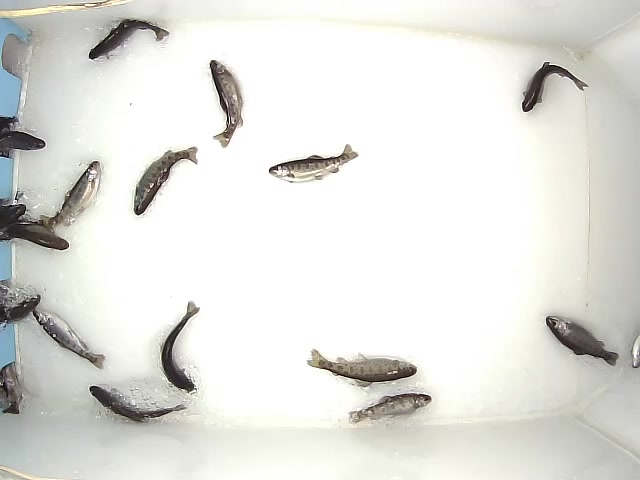fish: (33, 307, 106, 370), (134, 146, 198, 215), (39, 161, 101, 231), (306, 349, 417, 387), (161, 300, 200, 396), (89, 386, 188, 423), (546, 316, 619, 366), (269, 144, 359, 183), (89, 18, 170, 60), (522, 62, 589, 112), (209, 60, 243, 148), (348, 393, 432, 424), (1, 221, 69, 250)
